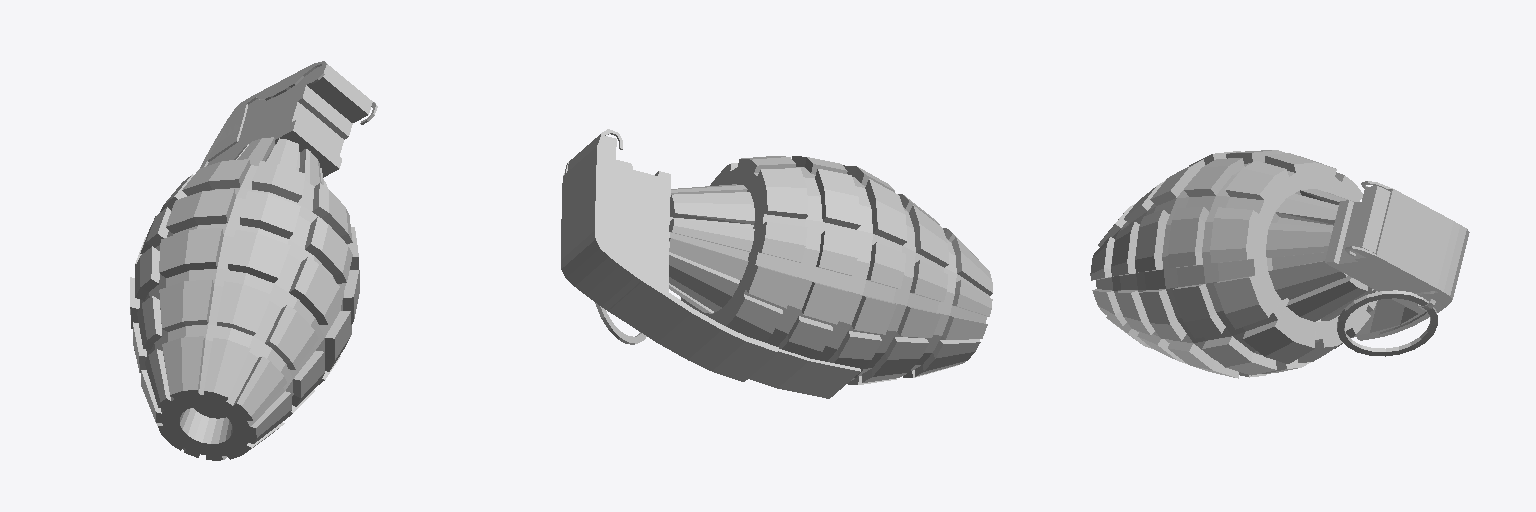
The model's file is grenade_1.obj.
The picture shows the model from 3 angles: view 1: azimuth 30°, elevation 25°; view 2: azimuth 150°, elevation 25°; view 3: azimuth 270°, elevation 25°; orthographic projection.
Parts seen in each view (by area): view 1: grenade_1; view 2: grenade_1; view 3: grenade_1.
Part boxes in pixels (x1,y1,x2,y2): grenade_1: (130, 61, 377, 460); grenade_1: (561, 129, 992, 398); grenade_1: (1090, 150, 1469, 378).
Size of the model in its own units: 0.9301 by 0.7299 by 0.9545.